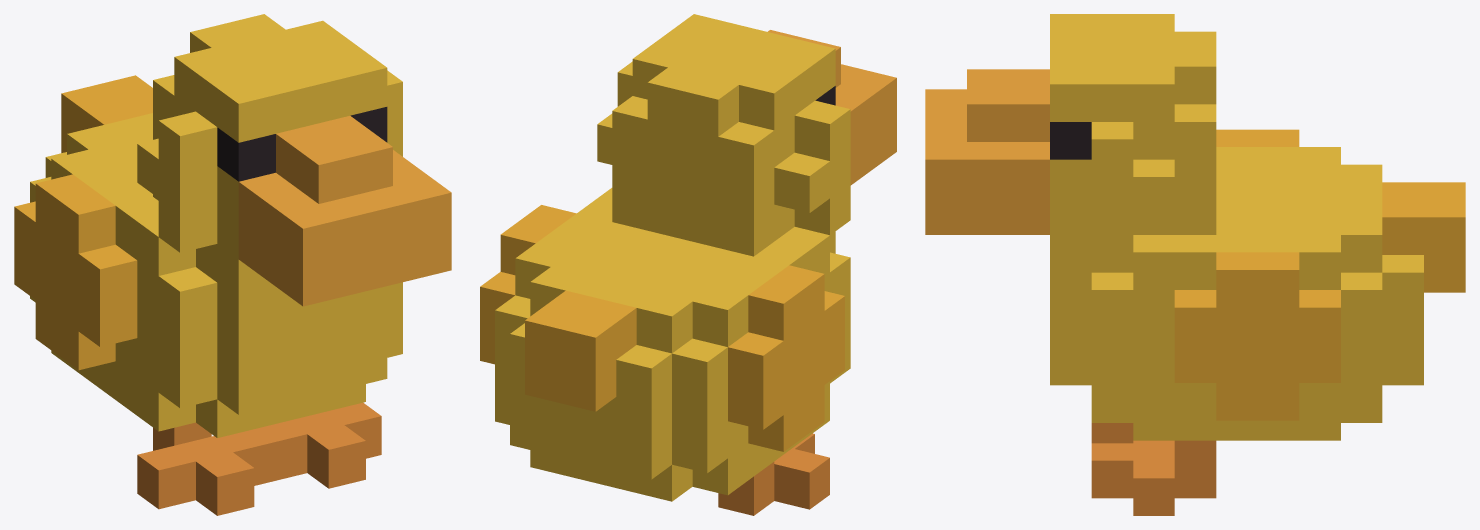
Rendered from duckling.glb.
3 renders of one model, left to right at view 1: azimuth 30°, elevation 25°; view 2: azimuth 150°, elevation 25°; view 3: azimuth 270°, elevation 25°, orthographic. The views are drawn at different scales.
Parts seen in each view (by area): view 1: duckling; view 2: duckling; view 3: duckling.
Boxes of the visible parts, bbox=[...] form: duckling: bbox=[14, 14, 451, 515]; duckling: bbox=[480, 14, 896, 515]; duckling: bbox=[925, 14, 1465, 515].
Bounding box in the file's own units: 0.8 × 1.1 × 1.3.
Materials: 1 (1 with a texture image).
